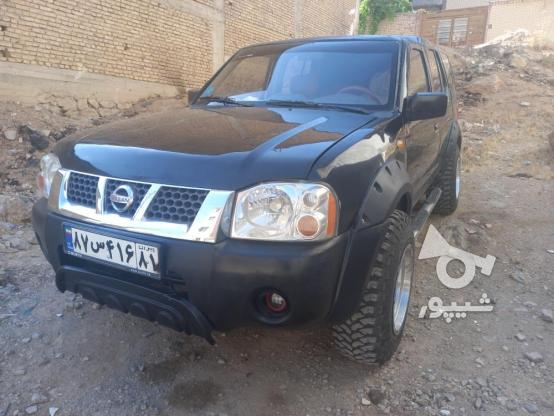car: (56, 220, 162, 280)
